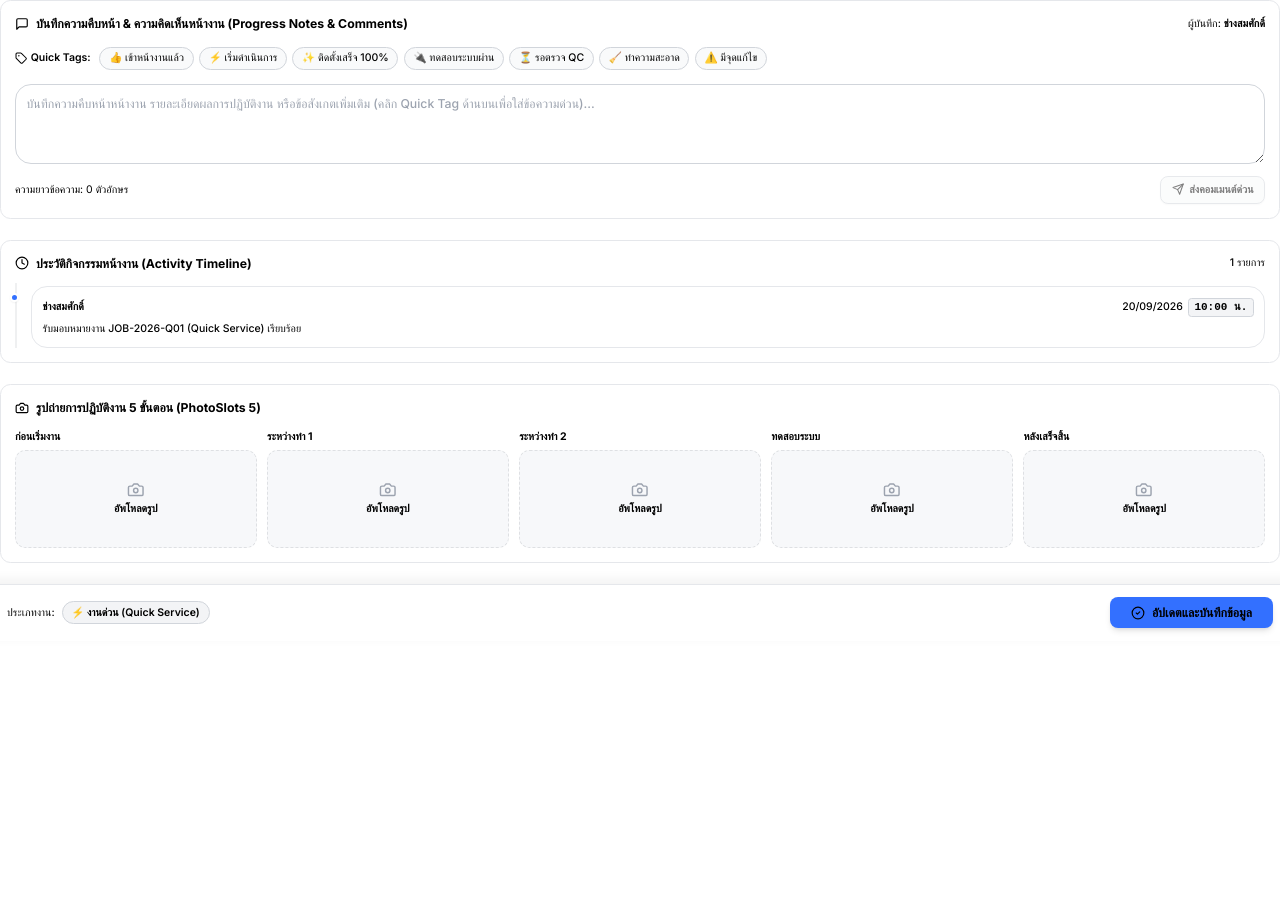
Test: JobActiveWorkspace Component › renders all 7 Quick Tag pills and appends tag text into comment textarea on click
This screenshot has width=1280, height=900.
expect the text box labelled "บันทึกความคืบหน้า" is empty: met, box [15, 84, 1265, 164]
expect the button "⚡ เริ่มดำเนินการ" is shown: met, box [199, 46, 287, 70]
Note: Click 1st tag: "👍 เข้าหน้างานแล้ว"
Click the button "👍 เข้าหน้างานแล้ว".
click(147, 58)  # box [99, 46, 194, 70]
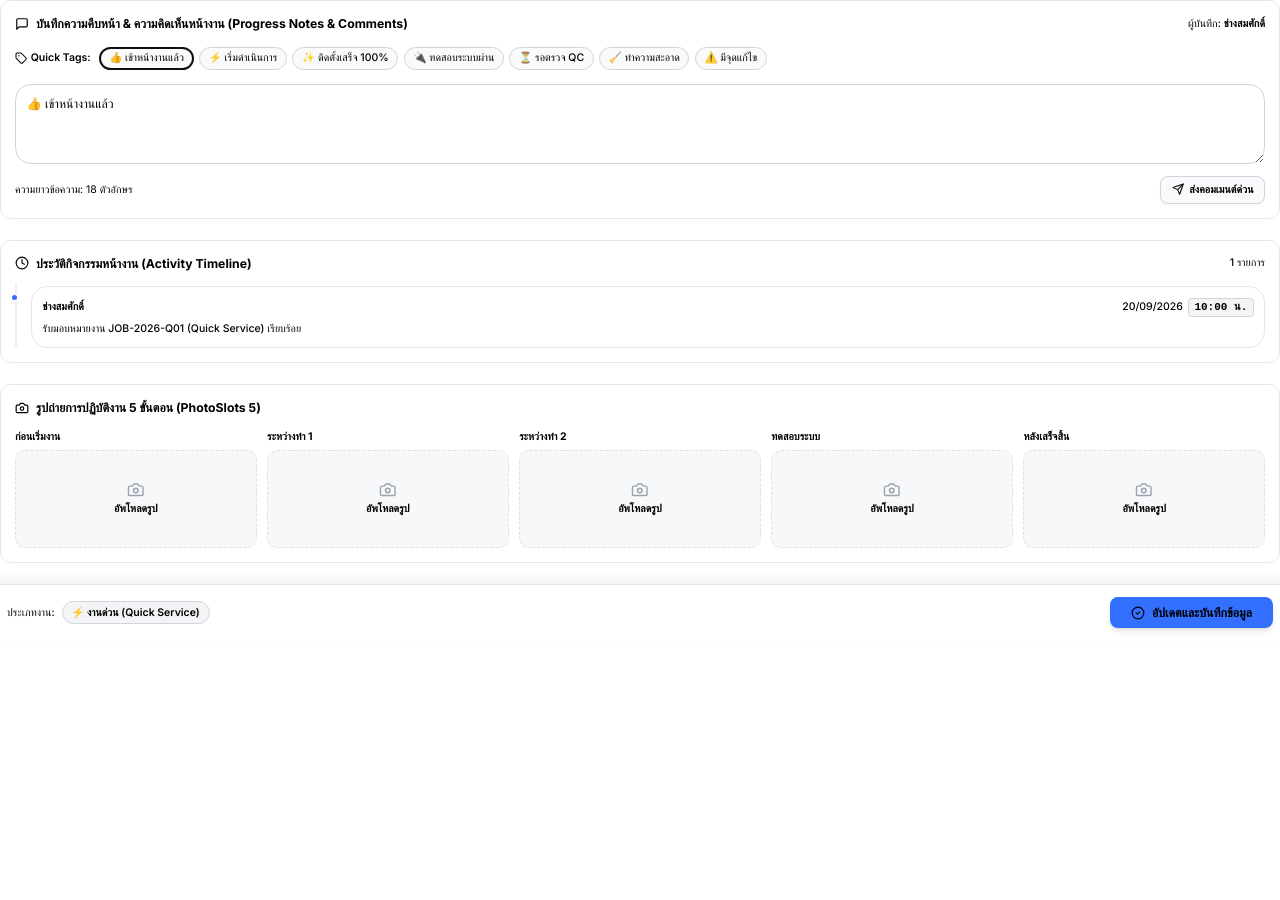
expect the text box named "บันทึกความคืบหน้า" holds "👍 เข้าหน้างานแล้ว": met, box [15, 84, 1265, 164]
Click the button "⚡ เริ่มดำเนินการ".
click(243, 58)  # box [199, 46, 287, 70]
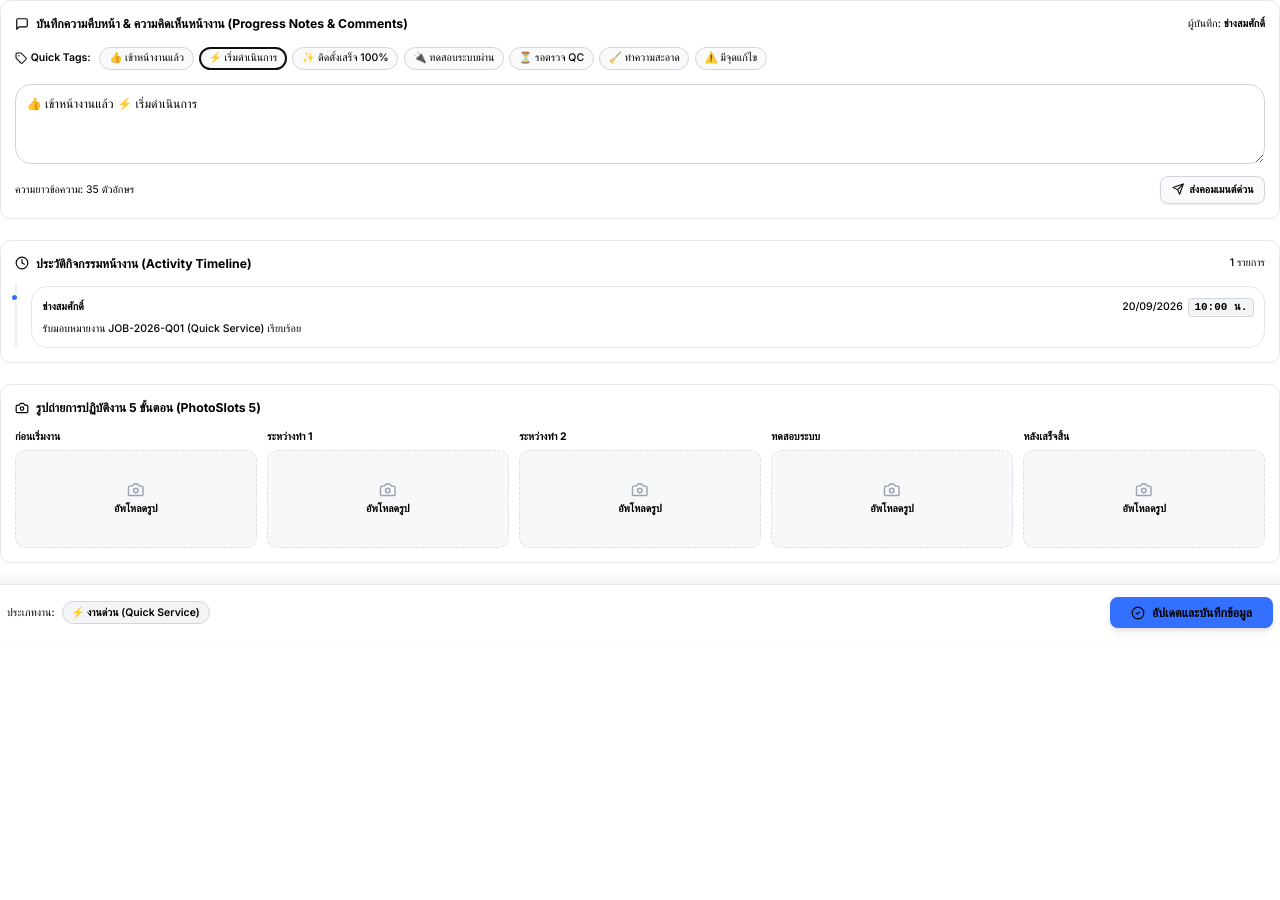
expect the text box named "บันทึกความคืบหน้า" holds "👍 เข้าหน้างานแล้ว ⚡ เริ่มดำเนินการ": met, box [15, 84, 1265, 164]
